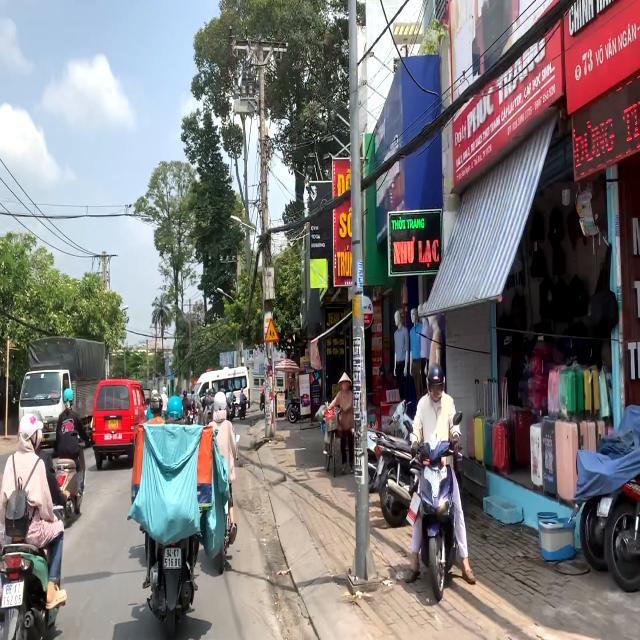W.225: (264, 317, 280, 343)
